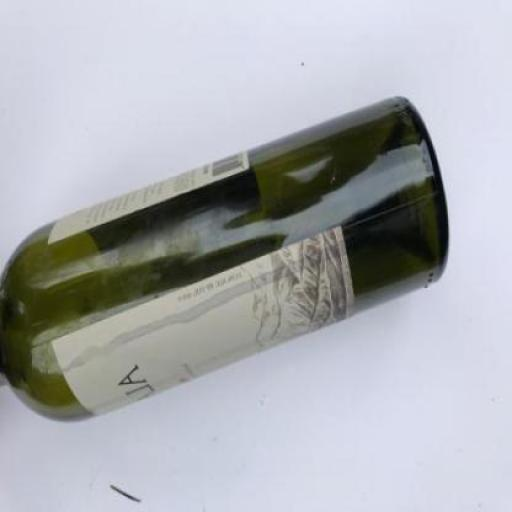glass: (1, 93, 449, 420)
